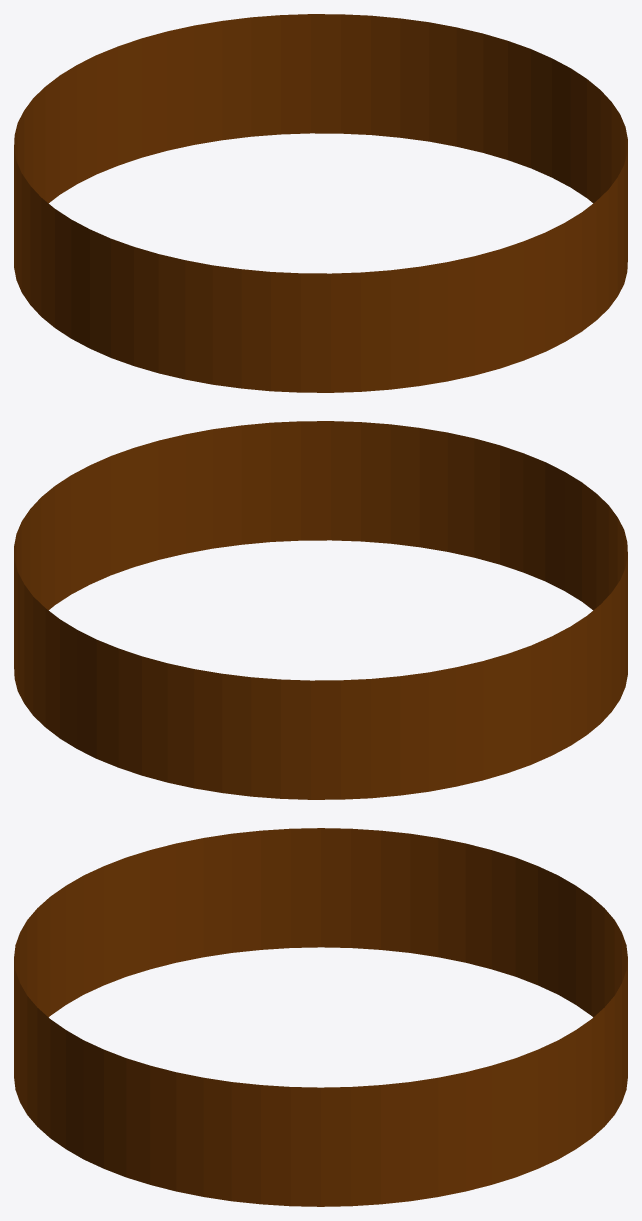
File: gunCopperRing.glb
3 views of the same model, one above another, from view 1: azimuth 30°, elevation 25°; view 2: azimuth 150°, elevation 25°; view 3: azimuth 270°, elevation 25° (orthographic).
Parts seen in each view (by area): view 1: copperRing; view 2: copperRing; view 3: copperRing.
Part boxes in pixels (box(x1,y1,x2,y2)): copperRing: box(14, 14, 627, 392); copperRing: box(14, 421, 627, 799); copperRing: box(14, 828, 627, 1206).
Bounding box in the file's own units: 0.6971 × 0.1495 × 0.6971.
